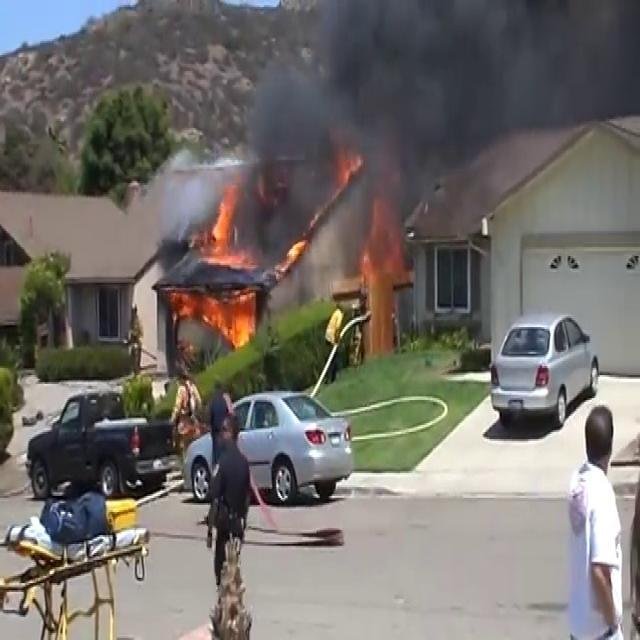Fire: (178, 292, 258, 349), (204, 188, 244, 270), (360, 250, 382, 354), (277, 231, 305, 276)
Smoke: (242, 0, 640, 209)
